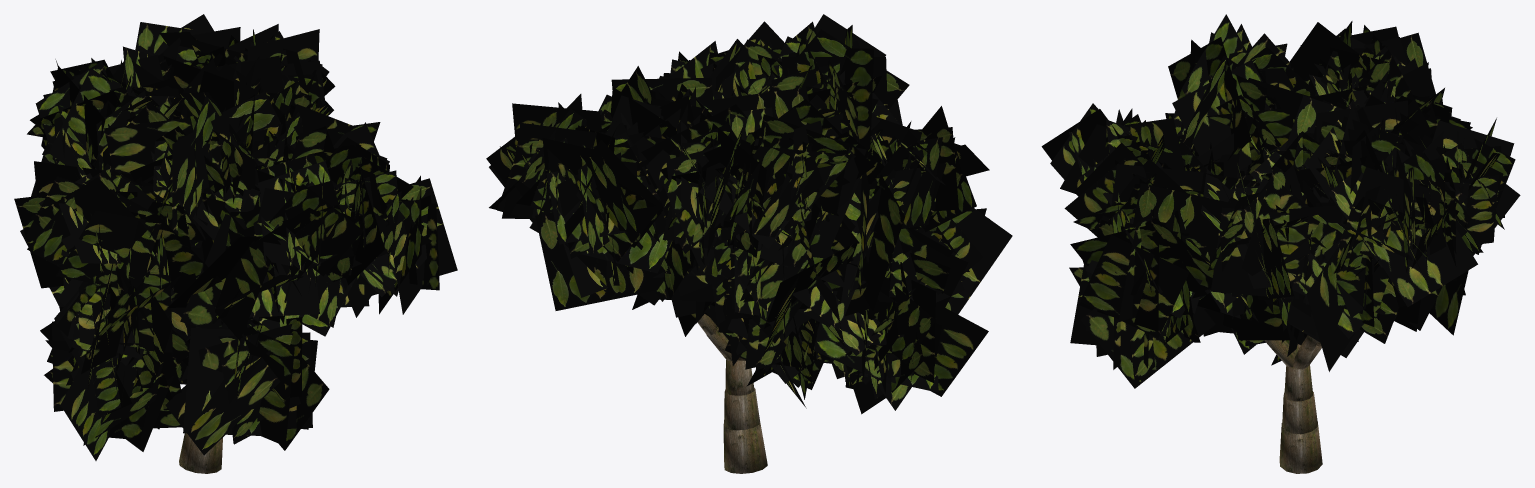
The picture shows the model from 3 angles, left to right: view 1: azimuth 30°, elevation 25°; view 2: azimuth 150°, elevation 25°; view 3: azimuth 270°, elevation 25°; orthographic projection.
Visible parts, largest first — view 1: plane; view 2: plane; view 3: plane.
Boxes of the visible parts, <box> form: plane: <box>14,14,457,473</box>; plane: <box>486,14,1012,473</box>; plane: <box>1041,14,1520,473</box>.
Size of the model in its own units: 11.39 by 11.33 by 11.95.
2 materials, 2 textured.
